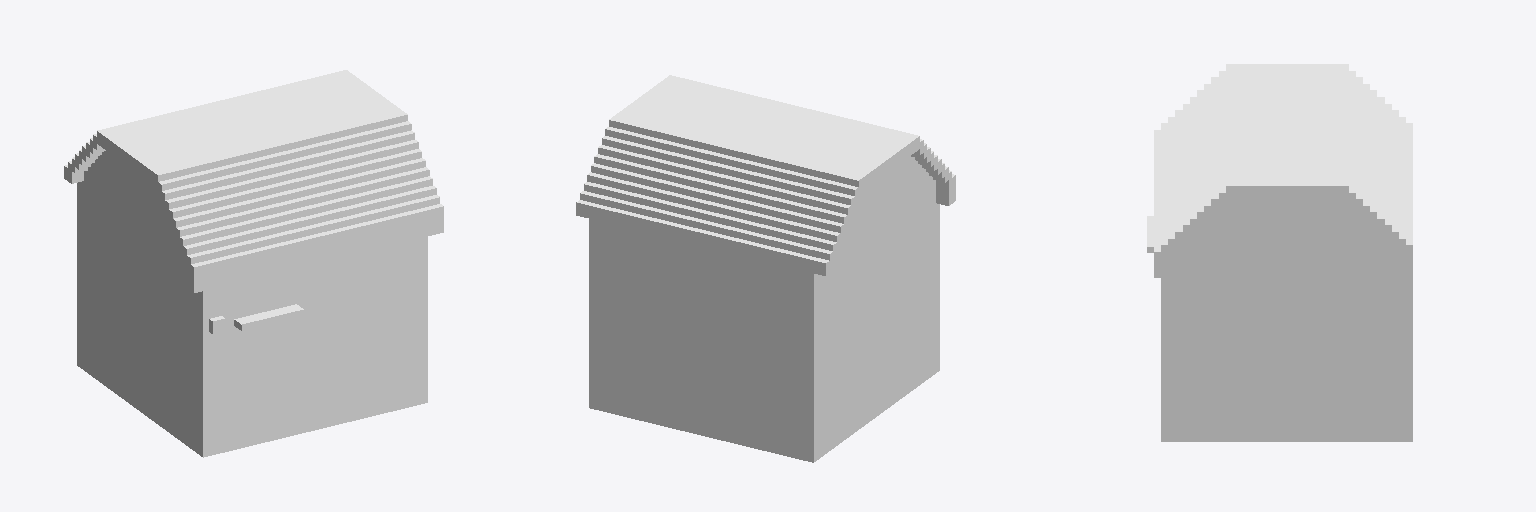
The model's file is shop1.obj.
3 views of the same model, side by side, from view 1: azimuth 30°, elevation 25°; view 2: azimuth 150°, elevation 25°; view 3: azimuth 270°, elevation 25° (orthographic).
Parts seen in each view (by area): view 1: object 1; view 2: object 1; view 3: object 1.
Boxes of the visible parts, <box> form: object 1: <box>64,70,443,457</box>; object 1: <box>576,75,955,462</box>; object 1: <box>1147,64,1412,441</box>.
Size of the model in its own units: 4 by 4 by 3.7.